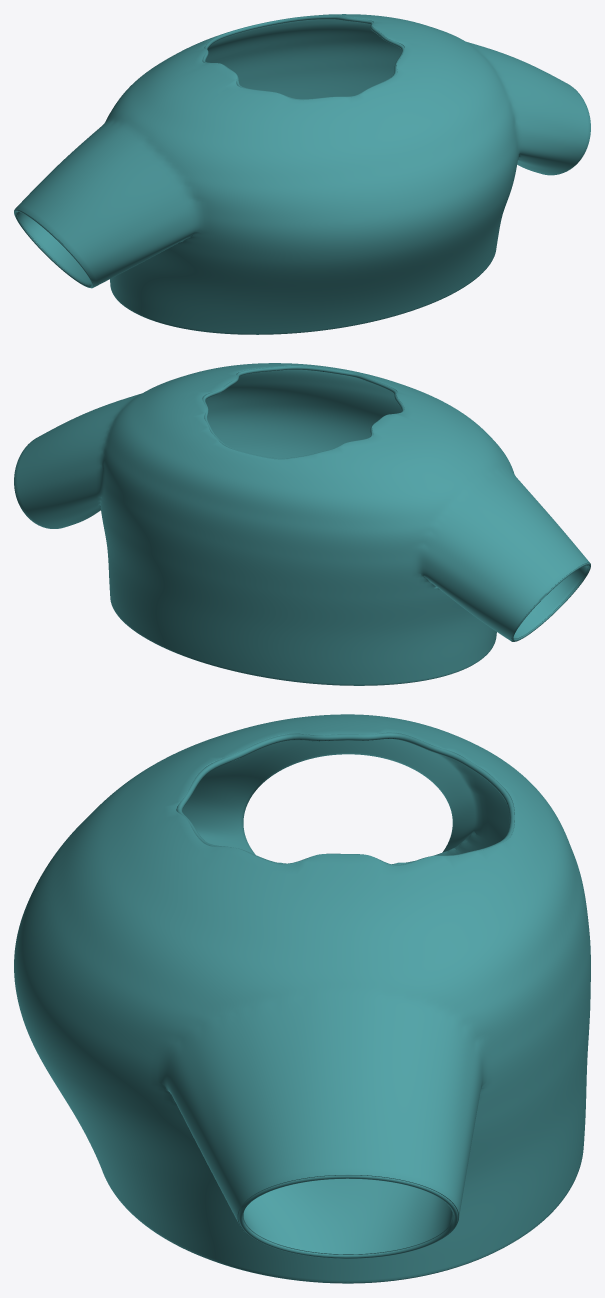
Rendered from Feminine-tshirt-top.glb.
3 renders of one model, top to bottom at view 1: azimuth 30°, elevation 25°; view 2: azimuth 150°, elevation 25°; view 3: azimuth 270°, elevation 25°, orthographic. The views are drawn at different scales.
Visible parts, largest first — view 1: Clothing / tshirt, Neckline / fitted crew export, Sleeve / soft cuff -1 export; view 2: Clothing / tshirt, Neckline / fitted crew export, Sleeve / soft cuff -1 export; view 3: Clothing / tshirt, Neckline / fitted crew export, Sleeve / soft cuff 1 export.
Boxes of the visible parts, x1=… form: Clothing / tshirt: x1=14, y1=14, x2=590, y2=334; Neckline / fitted crew export: x1=202, y1=15, x2=404, y2=100; Sleeve / soft cuff -1 export: x1=14, y1=209, x2=93, y2=287; Clothing / tshirt: x1=14, y1=363, x2=590, y2=685; Neckline / fitted crew export: x1=202, y1=365, x2=404, y2=459; Sleeve / soft cuff -1 export: x1=511, y1=563, x2=590, y2=641; Clothing / tshirt: x1=14, y1=714, x2=590, y2=1282; Neckline / fitted crew export: x1=176, y1=732, x2=514, y2=866; Sleeve / soft cuff 1 export: x1=238, y1=1175, x2=458, y2=1258.
Size of the model in its own units: 0.9383 by 0.3575 by 0.5355.
